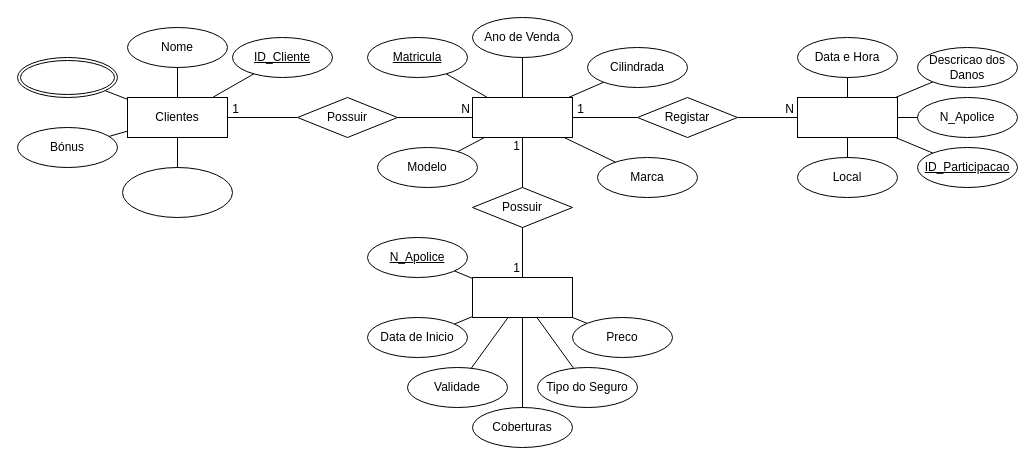
Some shapes in this 1035 by 465 pixel diagram are drawn without their labels. The centre of each missing label's shape, as x and y in pixels:
Anos de Carta de Condução: the point at 177,192
Apólices: the point at 522,297
Morada: the point at 67,77
Participações de Acidentes: the point at 847,117
Veiculos: the point at 522,117
